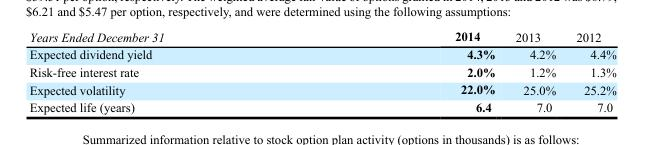table: (28, 29, 615, 113)
table column: (28, 29, 308, 113), (308, 29, 504, 113), (504, 29, 565, 113), (565, 29, 615, 113)
table column header: (28, 29, 615, 45)
table row: (28, 62, 615, 80), (28, 80, 615, 98), (28, 45, 615, 62), (28, 29, 615, 45), (28, 98, 615, 113)
